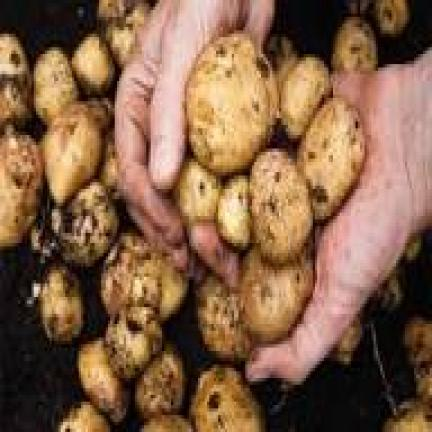potato: (187, 37, 274, 172), (297, 98, 362, 216), (43, 97, 111, 202), (101, 233, 184, 317), (252, 148, 310, 260), (241, 250, 310, 341), (52, 182, 117, 263), (191, 364, 263, 429), (0, 135, 40, 246), (196, 277, 250, 358), (281, 54, 328, 138), (106, 307, 160, 378), (79, 341, 126, 418), (97, 0, 148, 64), (34, 47, 76, 122), (135, 348, 184, 412), (40, 267, 81, 341), (0, 34, 29, 125), (176, 159, 218, 216), (72, 34, 113, 91), (405, 317, 430, 405), (333, 17, 376, 68), (218, 179, 247, 246), (266, 34, 297, 88), (58, 402, 108, 429), (382, 402, 430, 429), (32, 209, 56, 256), (374, 0, 407, 34), (99, 135, 117, 196), (333, 321, 360, 361), (376, 270, 403, 307), (142, 415, 191, 429), (405, 236, 421, 260)
